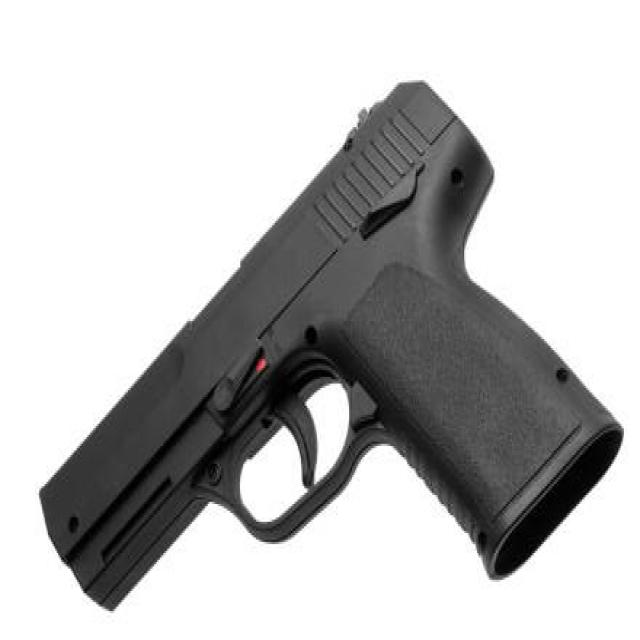pistol: (35, 61, 631, 622)
